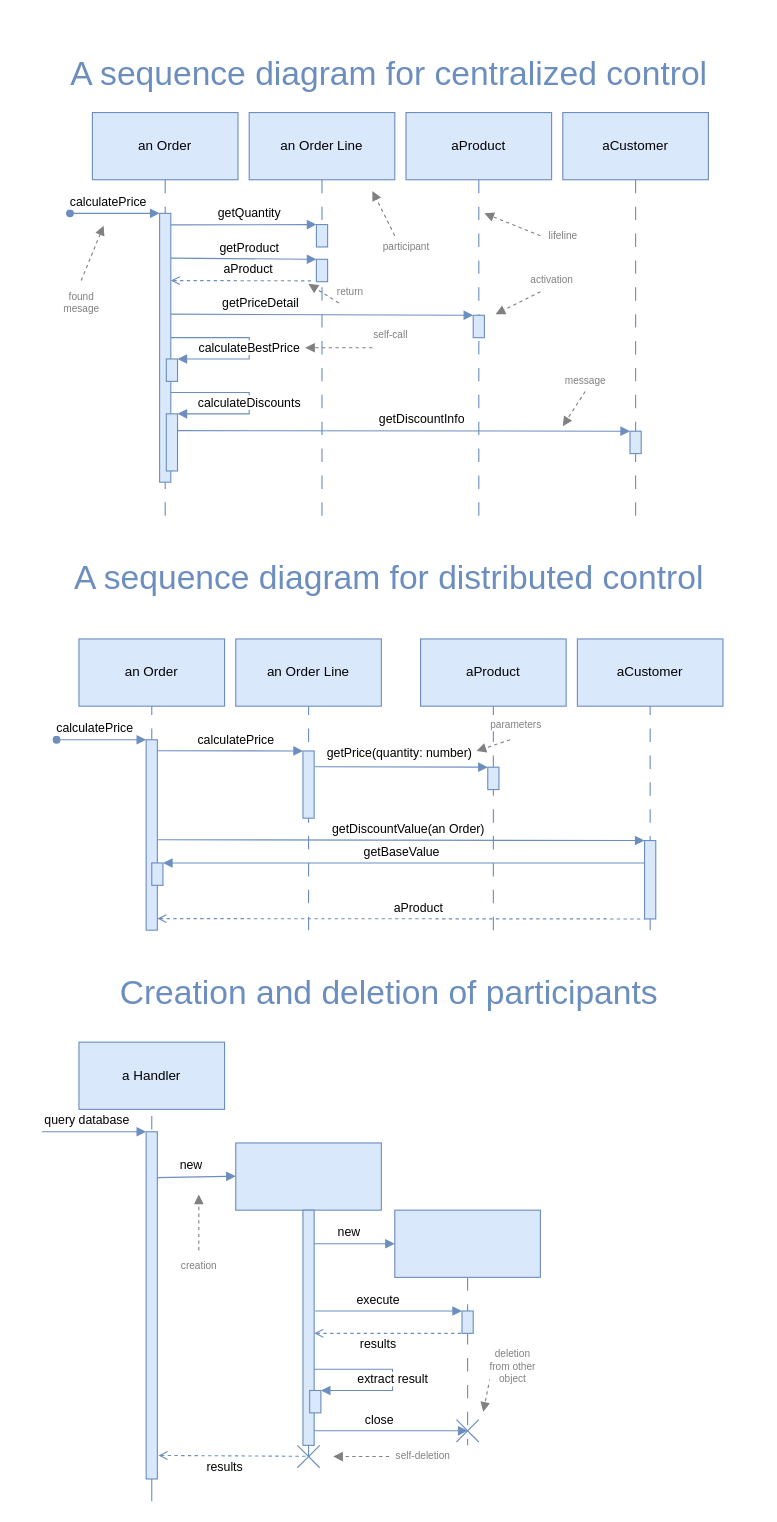
Image size: 777x1522. Some labels were removed from this diagram. The box of each missing label's shape, as (x1, y1, x2, y2) in pixels:
a Database Statement: (394, 1209, 540, 1277)
a Query Command: (235, 1142, 381, 1210)
